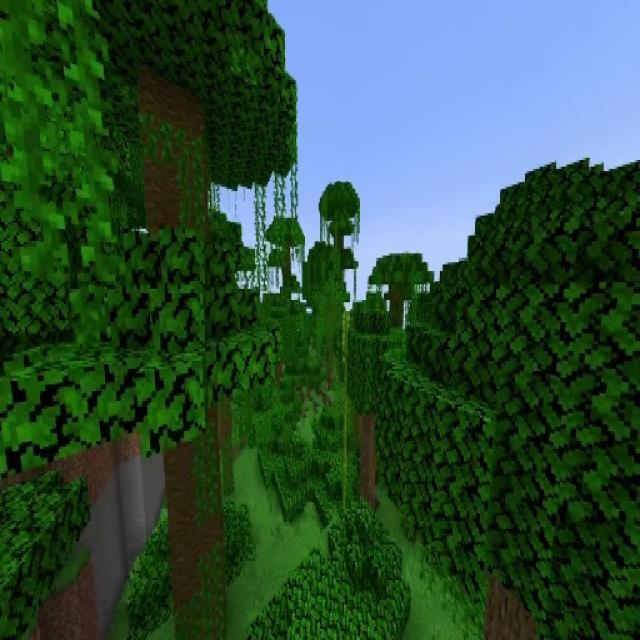jungle: (67, 3, 295, 634), (370, 256, 432, 370), (319, 177, 360, 324), (266, 220, 312, 320)
jungle_log: (166, 446, 226, 640)
oak_log: (360, 415, 374, 506)
